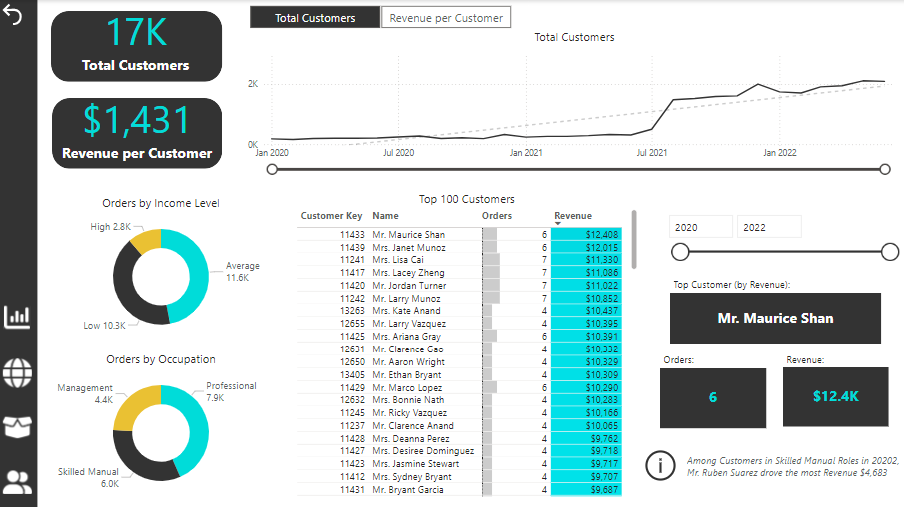

Layout of this report page (visuals, bound fields, positions):
{"tool":"powerbi","page":{"name":"Customer Detail","canvas":[1280,720],"ordinal":3},"visuals":[{"type":"shape","title":"Pages Navigator","box":[0,0,55.7,720.6],"z":0},{"type":"card","title":"Total Customers","fields":{"Values":["_measures.Total Customers"]},"box":[79.1,0,230.2,108.6],"z":0,"group":"g3"},{"type":"shape","title":"Revenue per Customer","box":[75.8,138.1,240.4,99.9],"z":0,"group":"g2"},{"type":"group","id":"g1","title":"KPIS","box":[74.4,0,240.5,242],"z":1000},{"type":"group","id":"g2","title":"KPI Background","box":[74.4,15,241.8,223],"z":1000,"group":"g1"},{"type":"shape","title":"Total Customers","box":[74.4,15,241.8,99.9],"z":1000,"group":"g2"},{"type":"card","title":"Revenue per Customer","fields":{"Values":["_measures.Average Revenue per Customer"]},"box":[81.3,115.5,228.8,126],"z":1000,"group":"g3"},{"type":"actionButton","title":"Exec Button","box":[5.5,416.5,45.2,63.5],"z":1000,"group":"g4"},{"type":"group","id":"g3","title":"KPI Values","box":[79.1,0,230.9,241.5],"z":2000,"group":"g1"},{"type":"lineChart","fields":{"Category":["Calendar Lookup.Year","Calendar Lookup.Date Hierarchy.Start of Month","Calendar Lookup.Date Hierarchy.Start of Week","Calendar Lookup.Date Hierarchy.Date"],"Y":["_measures.Total Customers"]},"box":[347.3,40.9,933.2,208.9],"z":2000},{"type":"actionButton","title":"Map Button","box":[3.4,499.3,49.4,53.6],"z":2000,"group":"g4"},{"type":"donutChart","title":"Orders by Income Level","fields":{"Y":["_measures.Total Orders"],"Category":["Customer Lookup.Income Level"]},"box":[74.8,275.3,310.6,210],"z":3000},{"type":"actionButton","title":"Product Button","box":[3.4,572.3,49.4,63.5],"z":3000,"group":"g4"},{"type":"donutChart","title":"Orders by Occupation","fields":{"Y":["_measures.Total Orders"],"Category":["Customer Lookup.Occupation"]},"box":[74.8,495.5,310.6,210.4],"z":4000},{"type":"actionButton","title":"Customer Button","box":[3.4,655.1,49.4,50.8],"z":4000,"group":"g4"},{"type":"tableEx","title":"Top 100 Customers","fields":{"Values":["Customer Lookup.CustomerKey","Customer Lookup.FullName","_measures.Total Orders","_measures.Revenue"]},"box":[416.5,269.6,491.3,436.2],"z":5000},{"type":"card","title":"Top Customer-Card","fields":{"Values":["Customer Lookup.FullName (customer details)"]},"box":[948.2,413.6,297.9,72],"z":6000},{"type":"textbox","title":"Top Customer-Text","box":[948.2,388.2,190.6,38.1],"z":7000},{"type":"card","title":"Orders-Card","fields":{"Values":["_measures.Total Orders (customer details)"]},"box":[934.1,519.5,149.6,84.7],"z":8000},{"type":"textbox","title":"Orders-Text","box":[934.1,494.1,84.7,38.1],"z":9000},{"type":"card","title":"Revenue-Card","fields":{"Values":["_measures.Revenue (customer details)"]},"box":[1107.8,518.1,149,84],"z":10000},{"type":"textbox","title":"Revenue-Text","box":[1107.8,494.1,96,38.1],"z":11000},{"type":"slicer","fields":{"Values":["Calendar Lookup.Year"]},"box":[934.6,293.6,345.9,86.1],"z":12000},{"type":"actionButton","title":"Information Button","box":[907.8,629.6,372.7,55.1],"z":13000},{"type":"actionButton","title":"Clear Filters","box":[0,0,55.1,40.4],"z":14000},{"type":"group","id":"g4","title":"Navigation tabs","box":[3.4,416.5,49.4,289.4],"z":14001},{"type":"slicer","fields":{"Values":["Customers Matrix Selection.Customers Matrix Selection"]},"box":[330.4,1.4,417.9,39.5],"z":14002}]}

Visuals, with their boxes on the page's 1280x720 design canvas (x1, y1, x2, y2). These are canvas units, not pixel positions in the 904x507 screenshot, which may show the page scaled, cropped or inside an application window:
"Pages Navigator" shape: <box>0,0,56,721</box>
"Total Customers" card: <box>79,0,309,109</box>
"Revenue per Customer" shape: <box>76,138,316,238</box>
"KPIS" group: <box>74,0,315,242</box>
"KPI Background" group: <box>74,15,316,238</box>
"Total Customers" shape: <box>74,15,316,115</box>
"Revenue per Customer" card: <box>81,116,310,242</box>
"Exec Button" actionButton: <box>6,416,51,480</box>
"KPI Values" group: <box>79,0,310,242</box>
lineChart - Calendar Lookup.Year x Calendar Lookup.Date Hierarchy.Start of Month: <box>347,41,1280,250</box>
"Map Button" actionButton: <box>3,499,53,553</box>
"Orders by Income Level" donutChart: <box>75,275,385,485</box>
"Product Button" actionButton: <box>3,572,53,636</box>
"Orders by Occupation" donutChart: <box>75,496,385,706</box>
"Customer Button" actionButton: <box>3,655,53,706</box>
"Top 100 Customers" tableEx: <box>416,270,908,706</box>
"Top Customer-Card" card: <box>948,414,1246,486</box>
"Top Customer-Text" textbox: <box>948,388,1139,426</box>
"Orders-Card" card: <box>934,520,1084,604</box>
"Orders-Text" textbox: <box>934,494,1019,532</box>
"Revenue-Card" card: <box>1108,518,1257,602</box>
"Revenue-Text" textbox: <box>1108,494,1204,532</box>
slicer - Calendar Lookup.Year: <box>935,294,1280,380</box>
"Information Button" actionButton: <box>908,630,1280,685</box>
"Clear Filters" actionButton: <box>0,0,55,40</box>
"Navigation tabs" group: <box>3,416,53,706</box>
slicer - Customers Matrix Selection.Customers Matrix Selection: <box>330,1,748,41</box>
